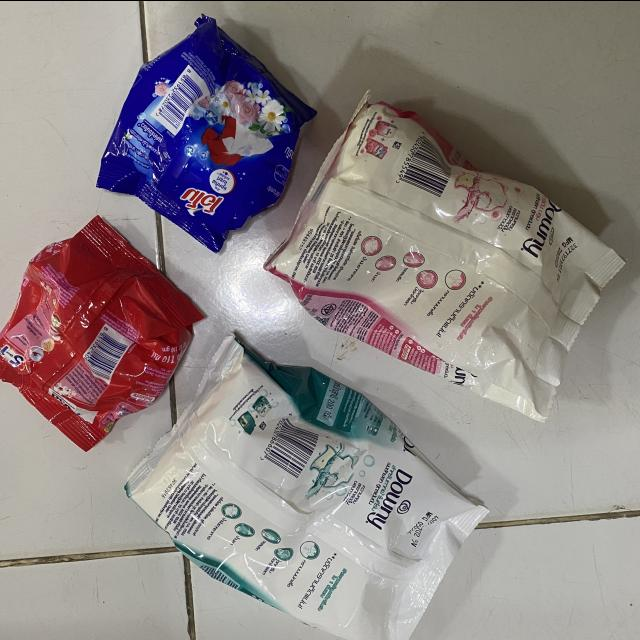plastik: (264, 96, 623, 418), (126, 336, 488, 640), (97, 15, 315, 251), (0, 215, 202, 450)
